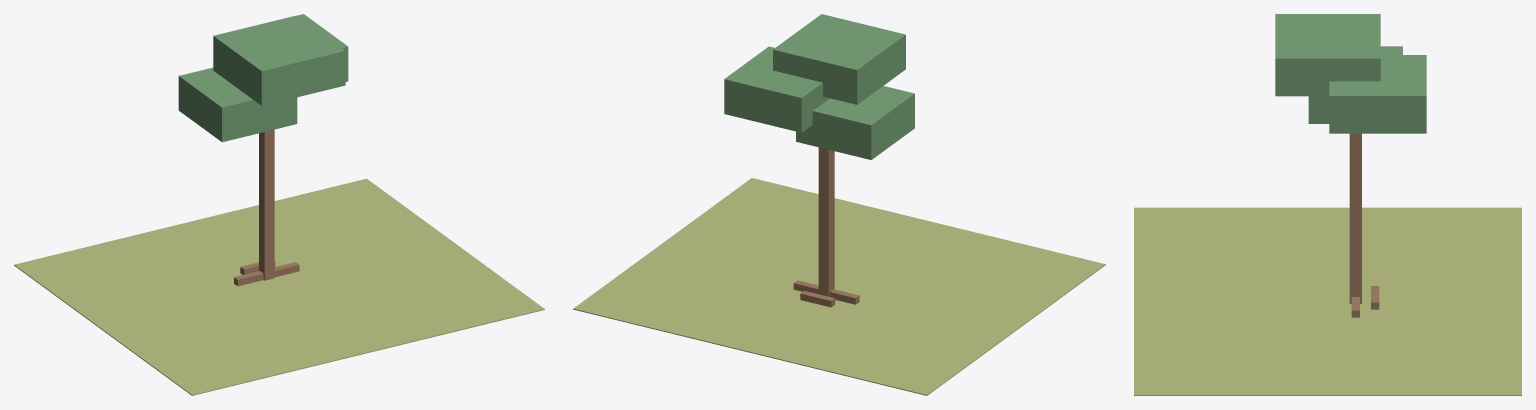
File: plot-garden.glb
3 views of the same model, side by side, from view 1: azimuth 30°, elevation 25°; view 2: azimuth 150°, elevation 25°; view 3: azimuth 270°, elevation 25° (orthographic). The views are drawn at different scales.
Bounding box in the file's own units: 15.96 × 10.57 × 13.96.
